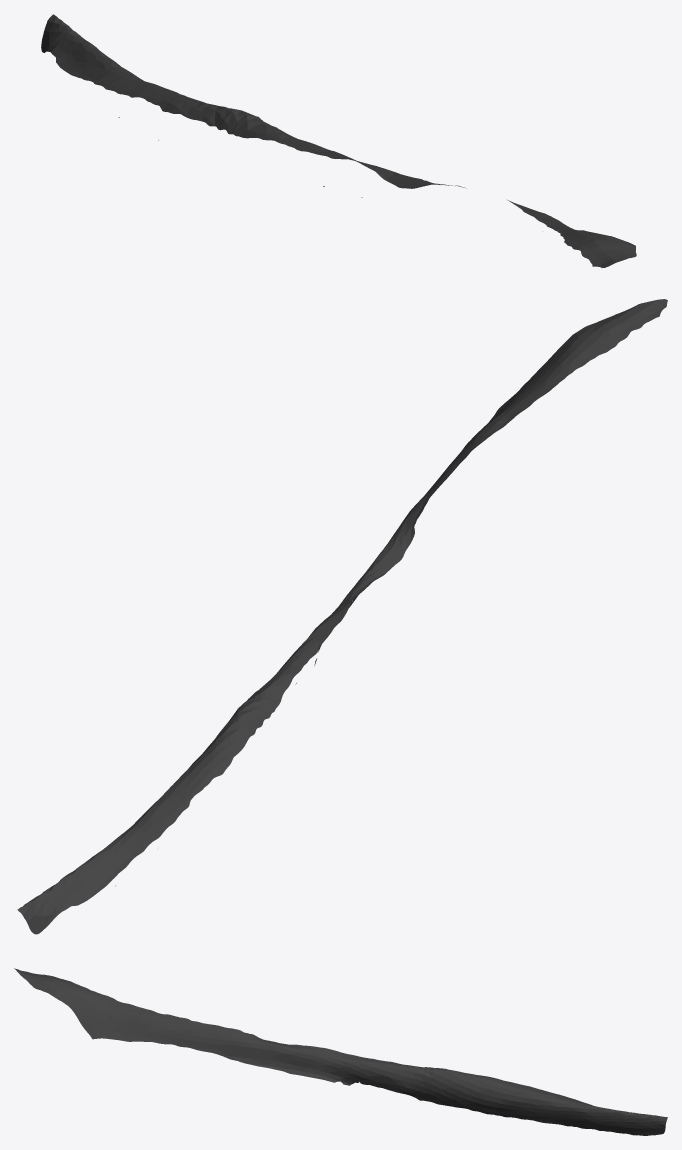
The model's file is musc_LDF.glb.
3 views of the same model, one above another, from view 1: azimuth 30°, elevation 25°; view 2: azimuth 150°, elevation 25°; view 3: azimuth 270°, elevation 25° (orthographic). The views are drawn at different scales.
Visible parts, largest first — view 1: musc_LDF; view 2: musc_LDF; view 3: musc_LDF.
Part boxes in pixels (bbox=[...]): musc_LDF: bbox=[41, 14, 636, 267]; musc_LDF: bbox=[17, 299, 667, 934]; musc_LDF: bbox=[14, 968, 667, 1135].
Bounding box in the file's own units: 0.0358 × 0.0888 × 0.3568.
Materials: 1 (1 with a texture image).
